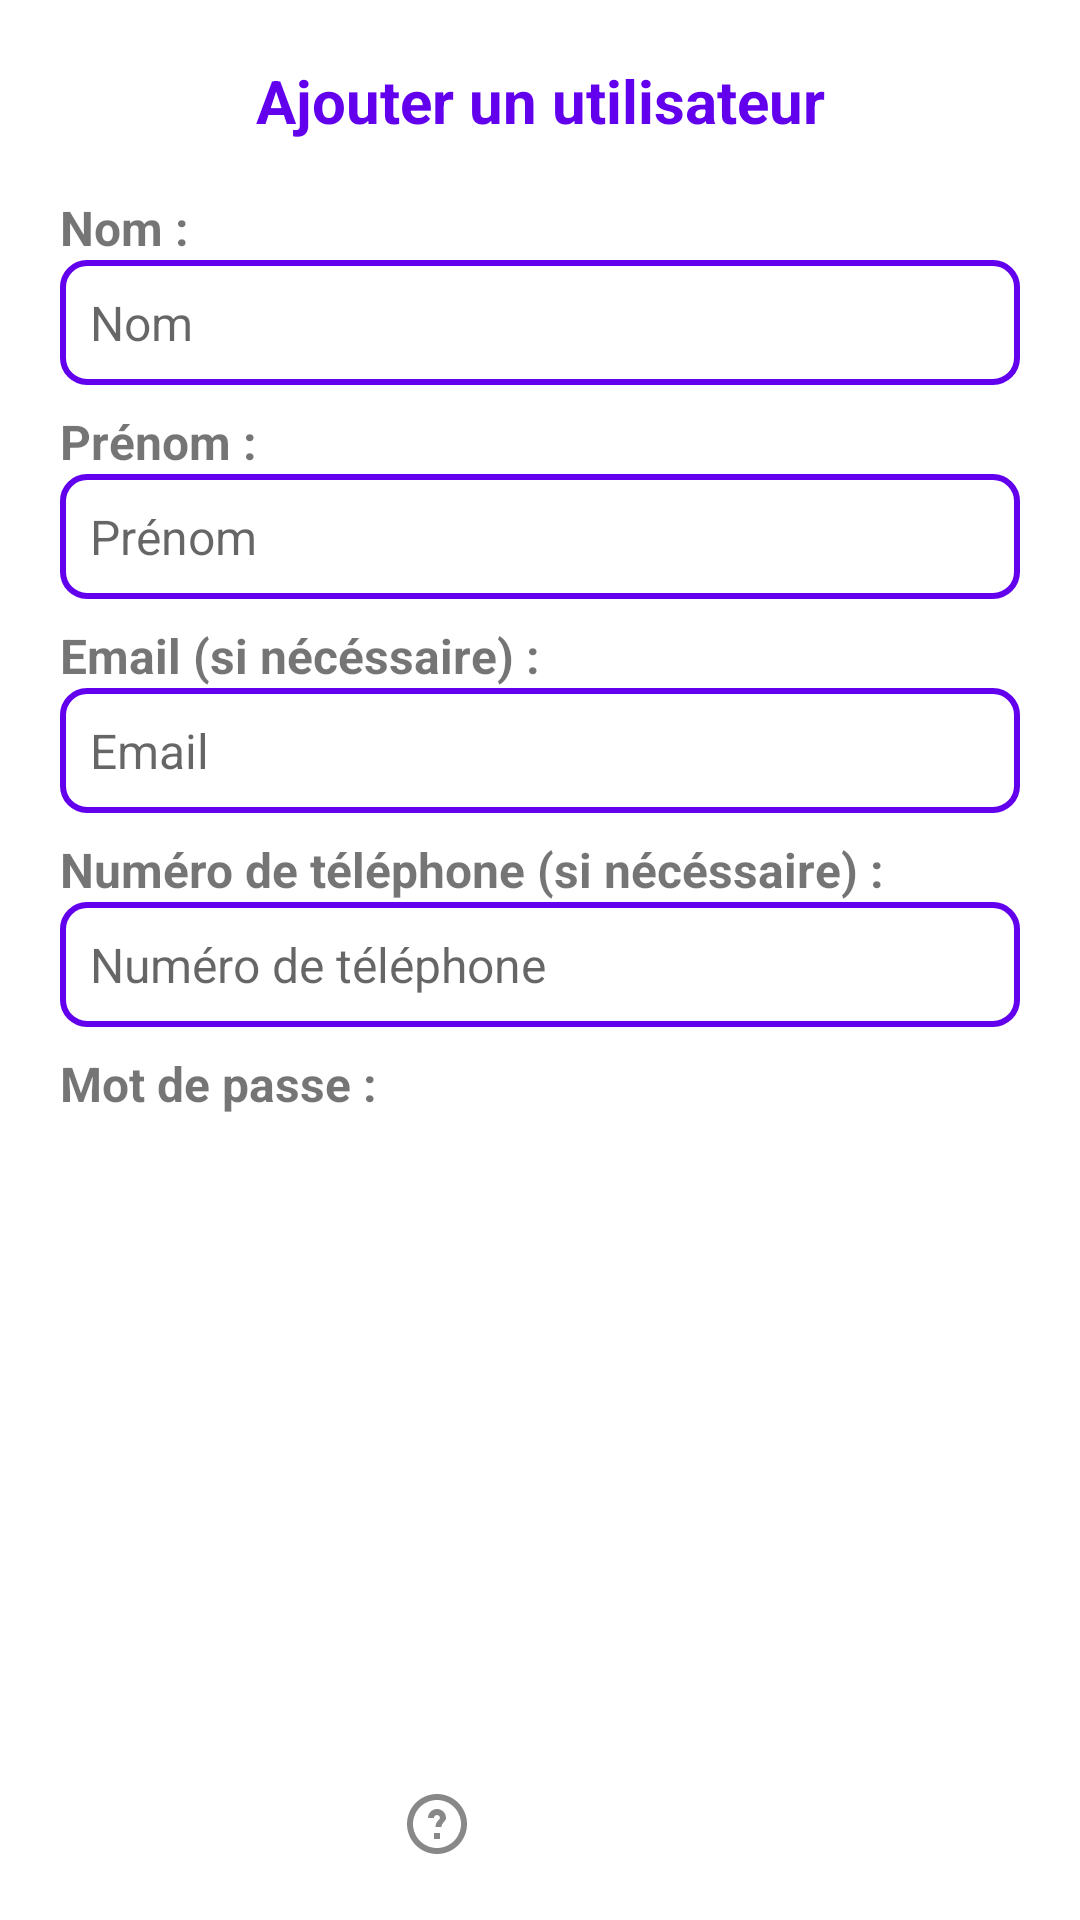

Icon bounding boxes for this 1080 x 1920 phone screenshot, format (x1, y1, x2, y2):
Aide: (407, 1794, 467, 1854)
